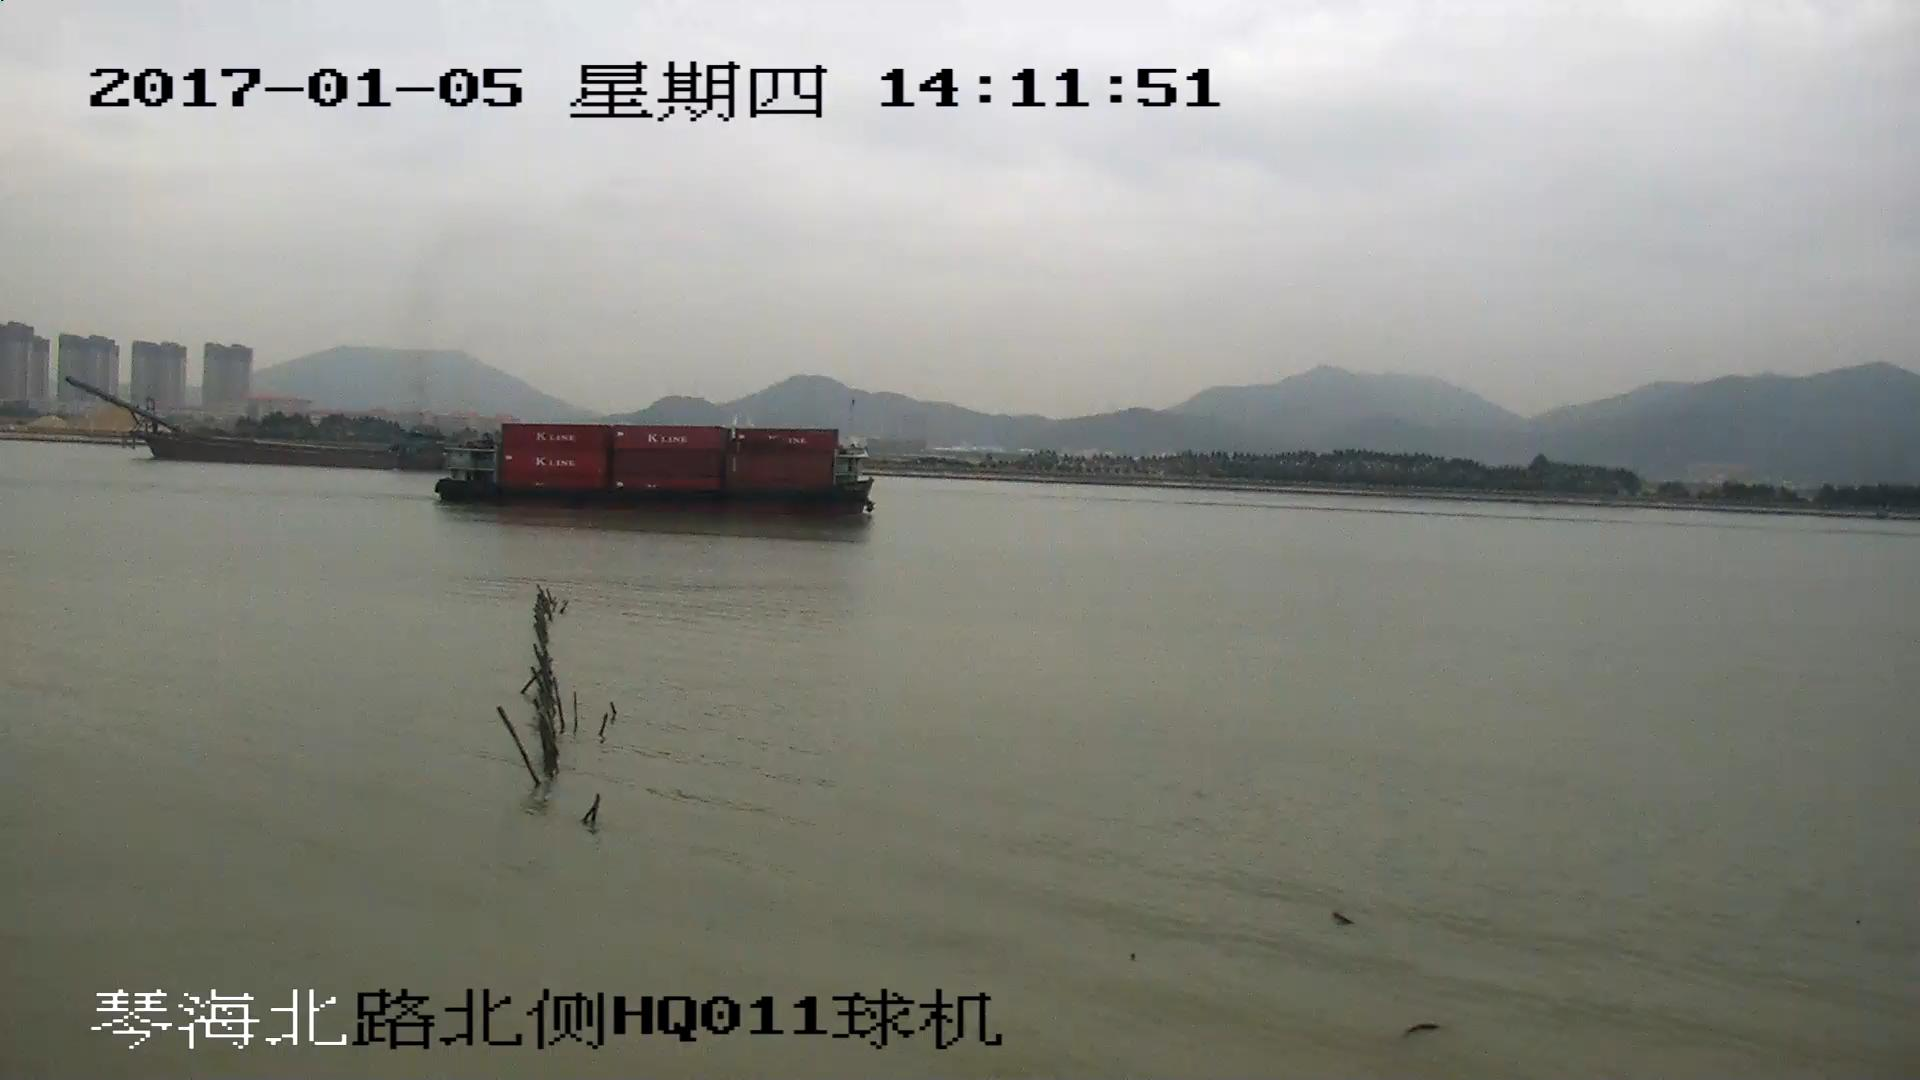bulk cargo carrier: (72, 379, 437, 469)
container ship: (438, 426, 875, 521)
